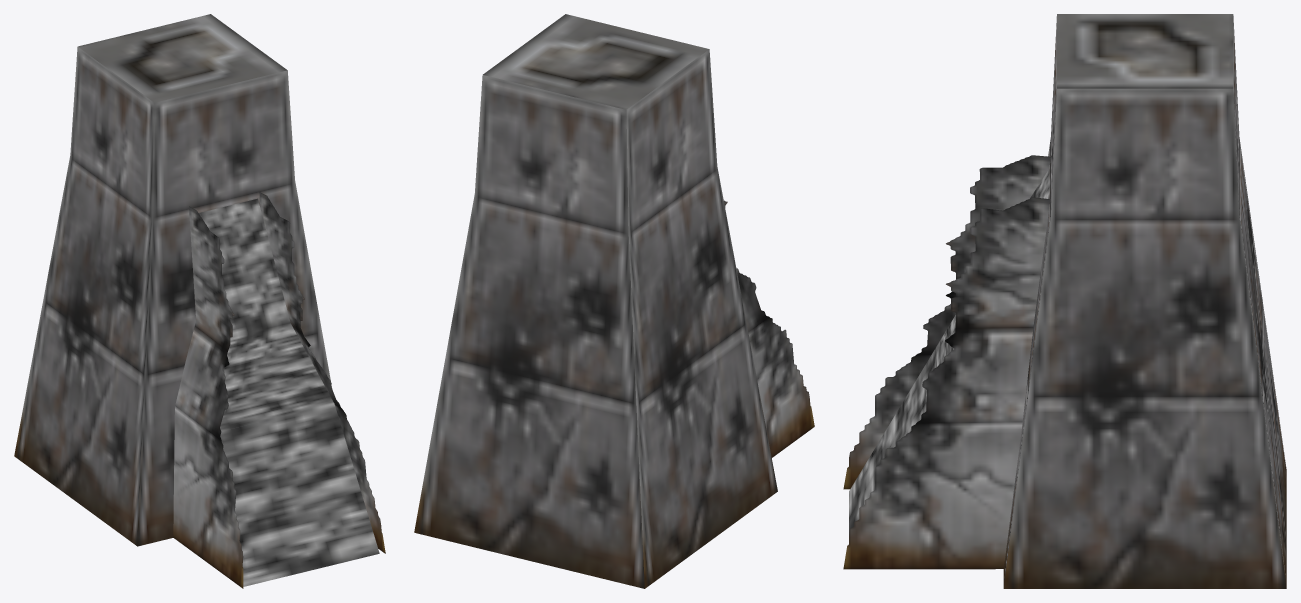
The model's file is s_mediumwall_dam.glb.
3 views of the same model, side by side, from view 1: azimuth 30°, elevation 25°; view 2: azimuth 150°, elevation 25°; view 3: azimuth 270°, elevation 25° (orthographic). The views are drawn at different scales.
Parts seen in each view (by area): view 1: S_MediumWallDAM; view 2: S_MediumWallDAM; view 3: S_MediumWallDAM.
Boxes of the visible parts, bbox=[...] form: S_MediumWallDAM: bbox=[14, 14, 385, 588]; S_MediumWallDAM: bbox=[414, 14, 814, 588]; S_MediumWallDAM: bbox=[843, 14, 1286, 588].
Size of the model in its own units: 6 by 11.2 by 9.4.
1 material, 1 textured.
